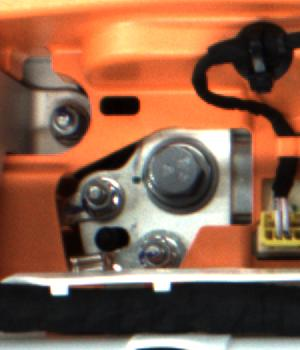nut_b: (141, 133, 224, 218)
screw_s: (74, 166, 125, 214), (144, 231, 189, 266), (52, 106, 88, 140)
